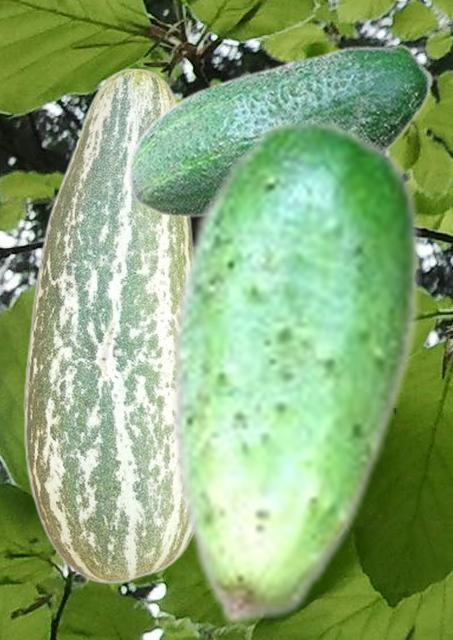cucumber: (169, 115, 420, 625), (23, 67, 193, 583), (127, 43, 433, 217)
